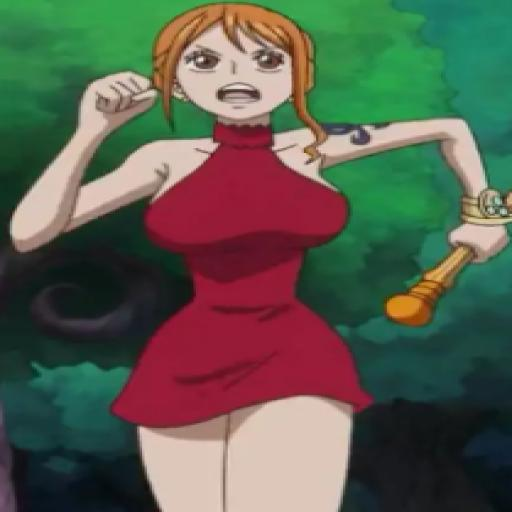Nami: (10, 5, 512, 512)
